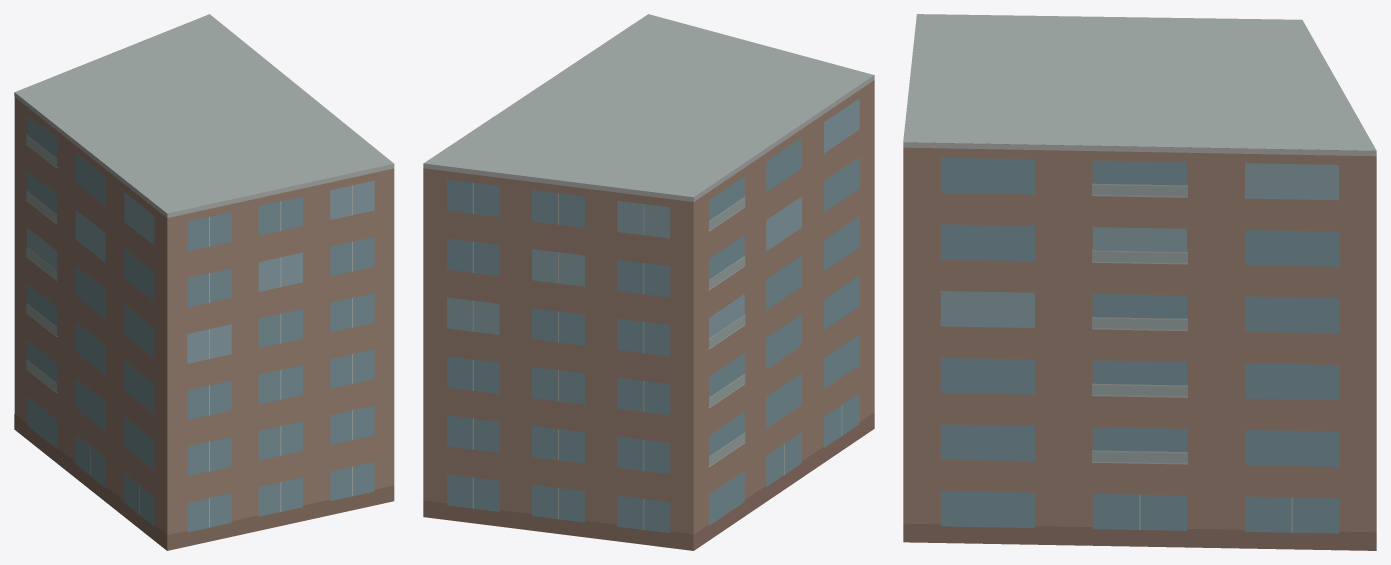
Rendered from survey-upis-33023772.glb.
3 renders of one model, left to right at view 1: azimuth 30°, elevation 25°; view 2: azimuth 150°, elevation 25°; view 3: azimuth 270°, elevation 25°, orthographic. The views are drawn at different scales.
Visible parts, largest first — view 1: survey-upis-33023772.tmp; view 2: survey-upis-33023772.tmp; view 3: survey-upis-33023772.tmp.
Boxes of the visible parts, x1,y1,x2,y2 form: survey-upis-33023772.tmp: (14, 14, 394, 550); survey-upis-33023772.tmp: (423, 14, 874, 550); survey-upis-33023772.tmp: (903, 14, 1376, 550).
Bounding box in the file's own units: 13.17 × 17.95 × 19.27.
